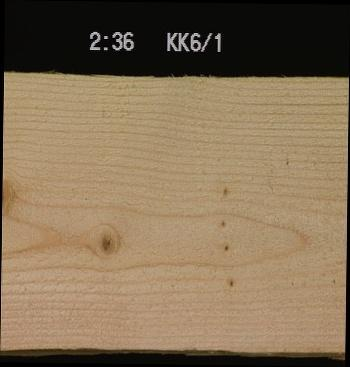small_knot: (224, 272, 241, 292), (218, 239, 237, 256), (217, 180, 232, 198), (216, 213, 230, 230)
sound_knot: (86, 221, 126, 260), (1, 170, 15, 212)
